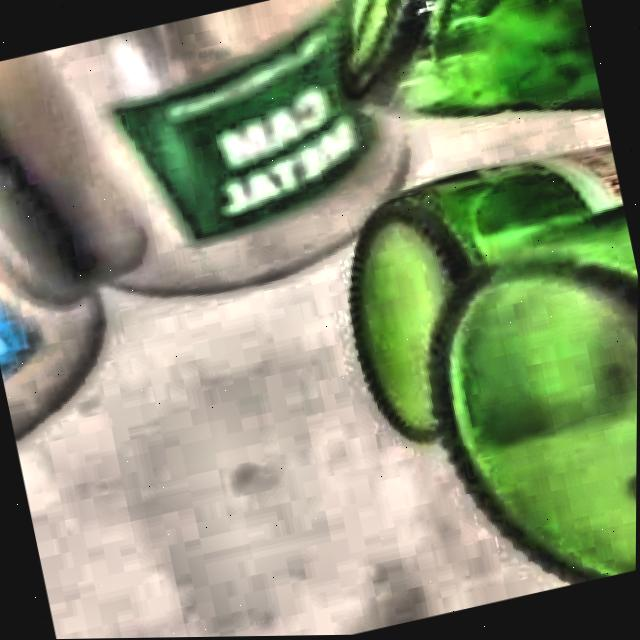glass: (353, 147, 638, 585)
